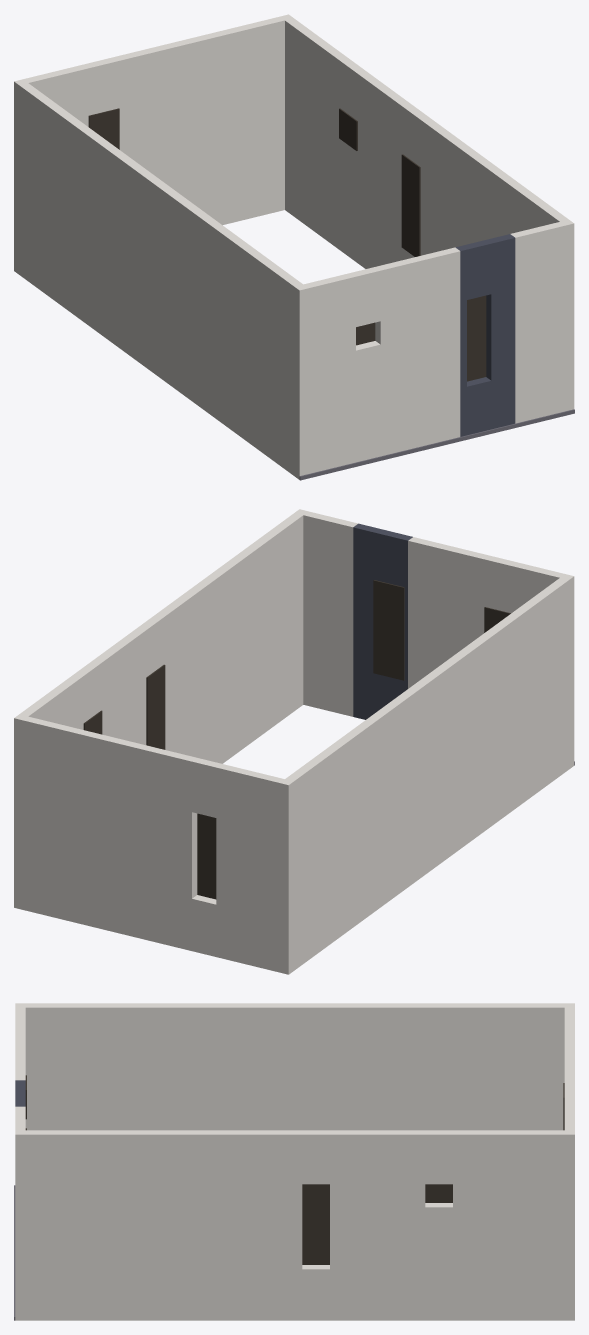
The model's file is SM_Floor_NarrowUpperScatterHighEndR_White_455_Back_01.gltf.
3 renders of one model, top to bottom at view 1: azimuth 30°, elevation 25°; view 2: azimuth 150°, elevation 25°; view 3: azimuth 270°, elevation 25°, orthographic. The views are drawn at different scales.
Visible parts, largest first — view 1: SM_Floor_NarrowUpperScatterHighEndR_White_455_Back_01; view 2: SM_Floor_NarrowUpperScatterHighEndR_White_455_Back_01; view 3: SM_Floor_NarrowUpperScatterHighEndR_White_455_Back_01.
Boxes of the visible parts, <box> form: SM_Floor_NarrowUpperScatterHighEndR_White_455_Back_01: <box>14,14,574,480</box>; SM_Floor_NarrowUpperScatterHighEndR_White_455_Back_01: <box>14,509,574,974</box>; SM_Floor_NarrowUpperScatterHighEndR_White_455_Back_01: <box>14,1003,574,1320</box>.
Bounding box in the file's own units: 4.55 × 3 × 8.21.
Materials: 1 (1 with a texture image).
